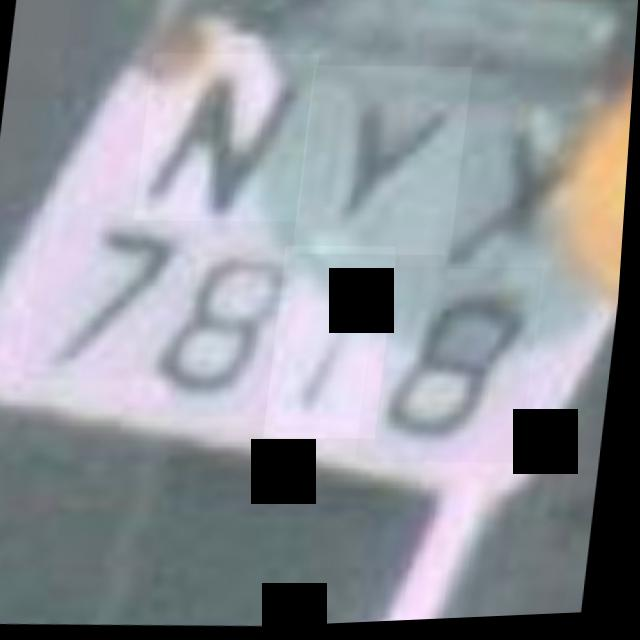1: (269, 245, 401, 447)
7: (28, 207, 206, 388)
8: (361, 264, 547, 473), (144, 221, 305, 426)
N: (136, 49, 321, 231)
Y: (296, 63, 476, 265)
